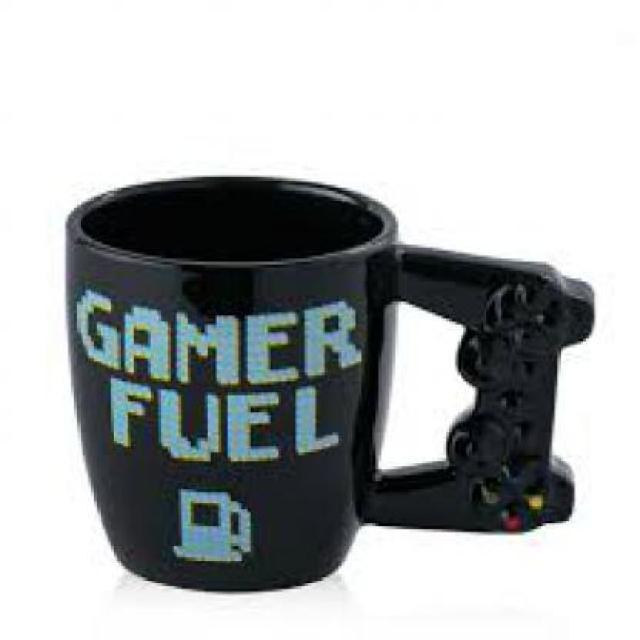cup: (51, 160, 600, 595)
